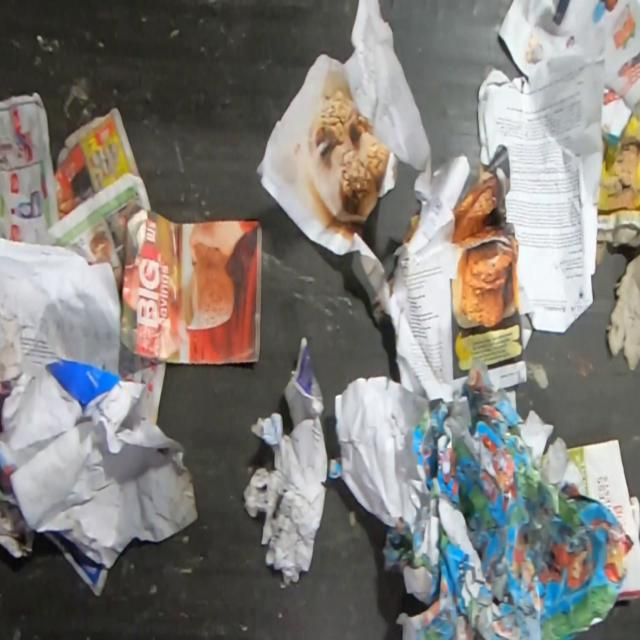cardboard: (597, 99, 639, 214)
